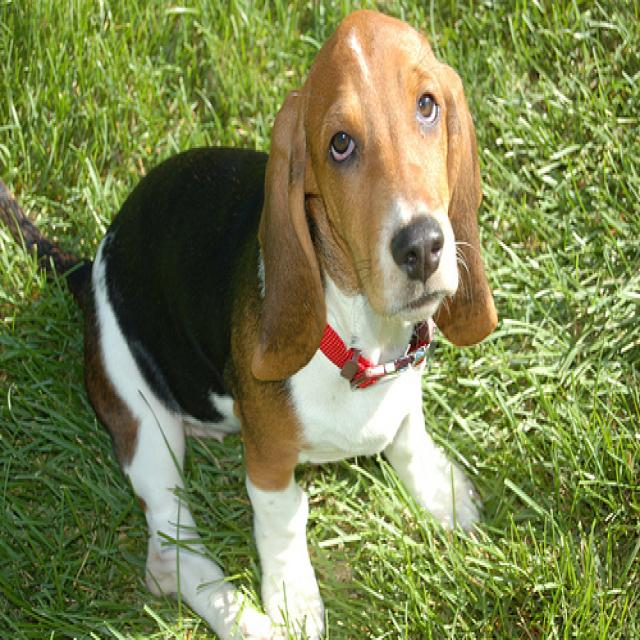dog-basset_hound: (1, 2, 507, 636)
